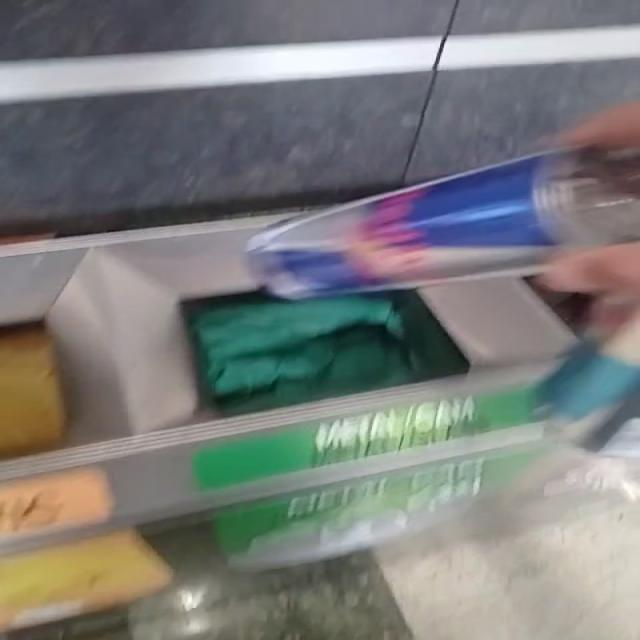Bin: (1, 215, 576, 445)
Metal: (249, 148, 640, 298)
